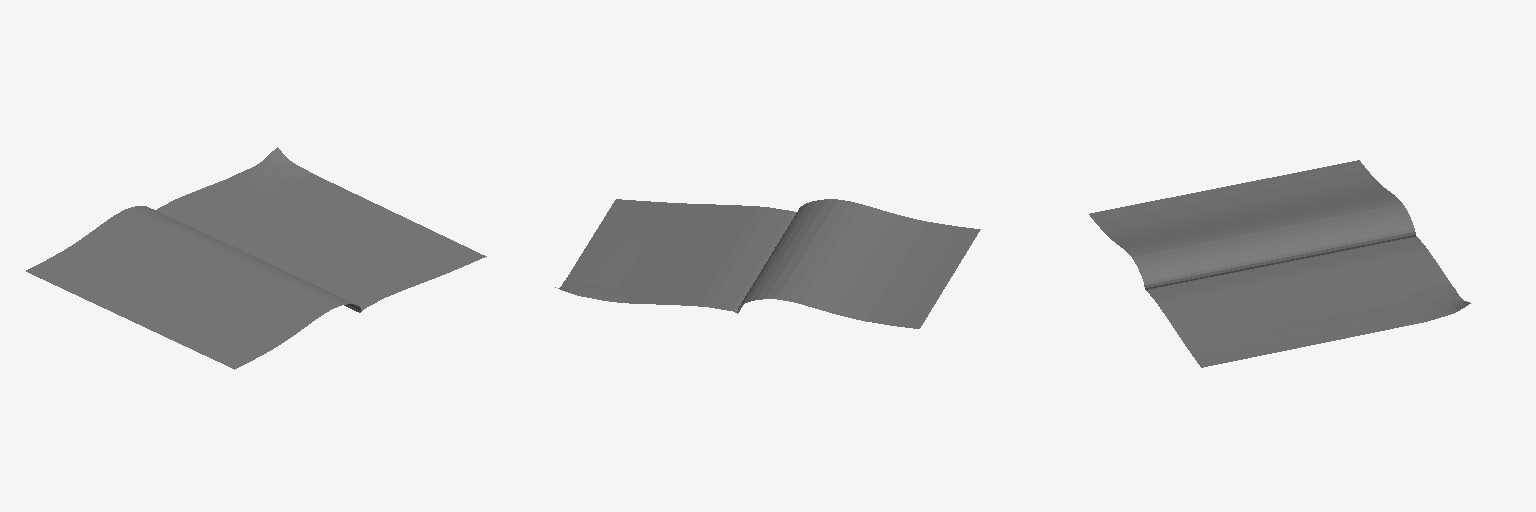
Rendered from Magaine.obj.
3 views of the same model, side by side, from view 1: azimuth 30°, elevation 25°; view 2: azimuth 150°, elevation 25°; view 3: azimuth 270°, elevation 25° (orthographic).
Parts seen in each view (by area): view 1: pPlane98; view 2: pPlane98; view 3: pPlane98.
Part boxes in pixels (left/top/right/bottom): pPlane98: left=26, top=147, right=486, bottom=369; pPlane98: left=555, top=199, right=980, bottom=328; pPlane98: left=1089, top=160, right=1470, bottom=367.
Bounding box in the file's own units: 0.3257 × 0.0301 × 0.2824.